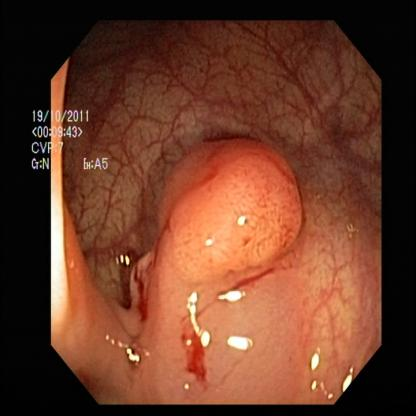Labels: (28, 104, 115, 180)
Polyps: (158, 144, 301, 280)
